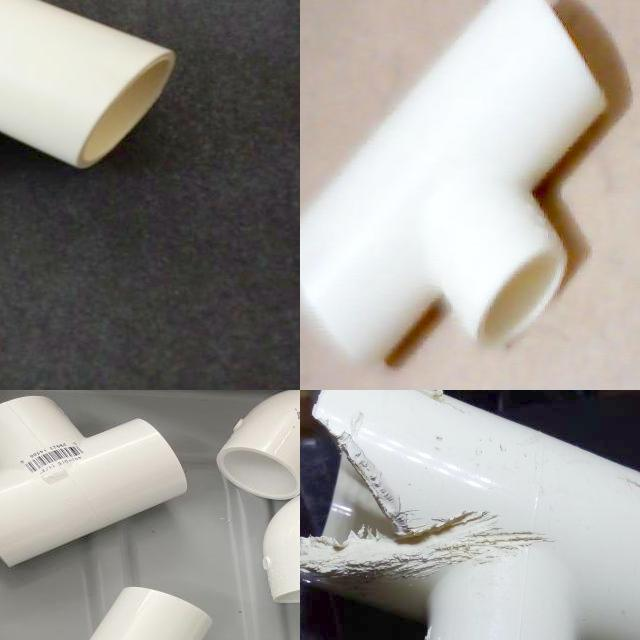Defective: (322, 433, 490, 578), (346, 528, 552, 577), (405, 390, 456, 403)
L Joint: (216, 390, 300, 501), (260, 496, 300, 606)
T Joint: (300, 0, 615, 372), (300, 390, 640, 640), (0, 396, 188, 569), (88, 587, 214, 640)
